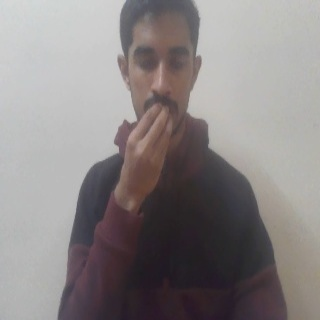Food: (116, 102, 175, 209)
